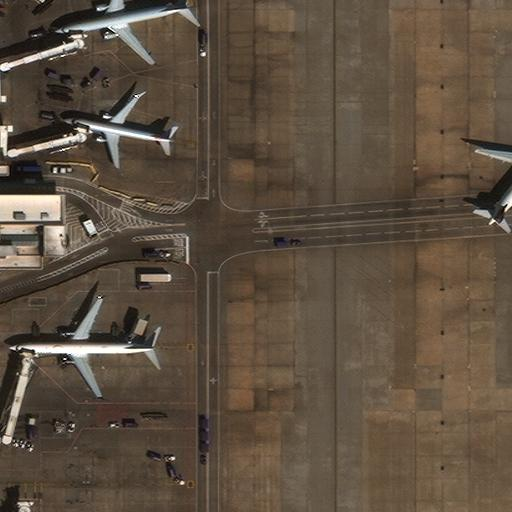Medium Civil Transport: (8, 294, 157, 397), (54, 0, 189, 66), (63, 90, 174, 166), (476, 138, 512, 223)
